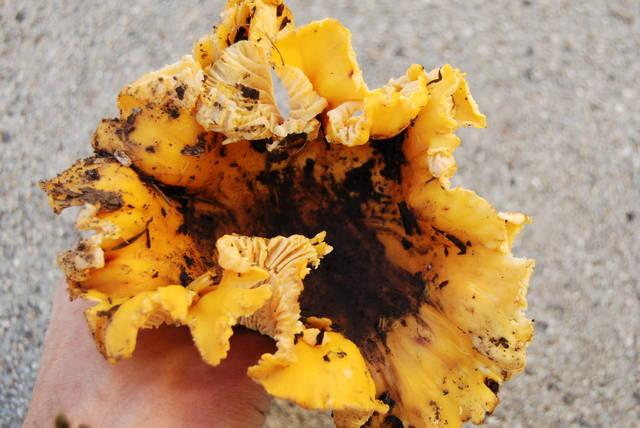Edible Mushroom: (38, 0, 536, 426)
